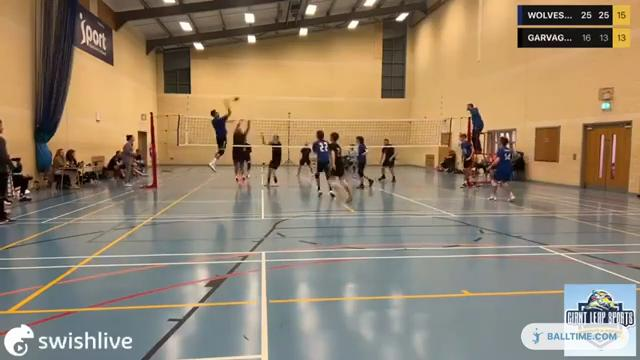Attack: (201, 95, 233, 167)
Player: (329, 132, 351, 202), (312, 130, 334, 196), (489, 137, 512, 200), (232, 120, 250, 182), (261, 134, 281, 186), (355, 136, 373, 188), (378, 138, 395, 182), (459, 133, 472, 187), (297, 143, 312, 175), (244, 142, 251, 177)
ball: (234, 97, 241, 103)
